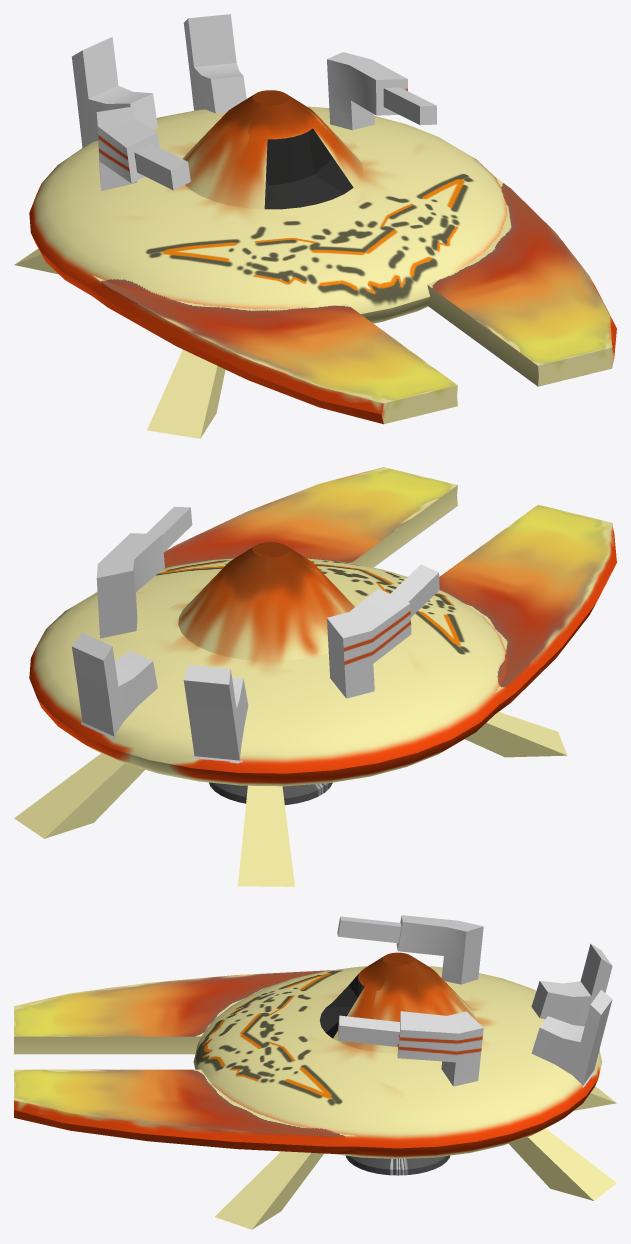
The model's file is millennium falcon.fbx.
3 views of the same model, one above another, from view 1: azimuth 30°, elevation 25°; view 2: azimuth 150°, elevation 25°; view 3: azimuth 270°, elevation 25° (orthographic). The views are drawn at different scales.
Parts seen in each view (by area): view 1: Sphere.001; view 2: Sphere.001; view 3: Sphere.001.
Boxes of the visible parts, <box> form: Sphere.001: <box>14,14,616,438</box>; Sphere.001: <box>14,467,616,886</box>; Sphere.001: <box>14,915,616,1229</box>.
Size of the model in its own units: 609 by 320 by 895.
Materials: 2 (1 with a texture image).
